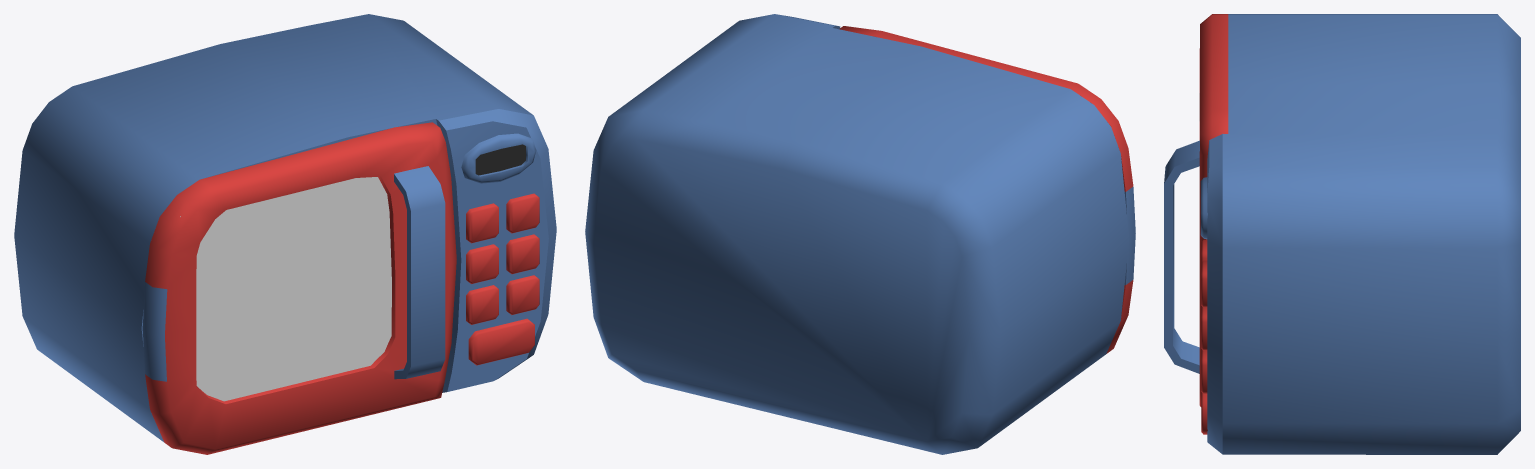
File: Microwave_01.fbx
3 views of the same model, side by side, from view 1: azimuth 30°, elevation 25°; view 2: azimuth 150°, elevation 25°; view 3: azimuth 270°, elevation 25° (orthographic). The views are drawn at different scales.
Parts seen in each view (by area): view 1: Microwave_01, Microwave_01_Door; view 2: Microwave_01, Microwave_01_Door; view 3: Microwave_01, Microwave_01_Door.
Boxes of the visible parts, left/top/right/bottom form: Microwave_01: left=14, top=14, right=556, bottom=442; Microwave_01_Door: left=142, top=122, right=456, bottom=454; Microwave_01: left=585, top=14, right=1129, bottom=454; Microwave_01_Door: left=839, top=26, right=1135, bottom=353; Microwave_01: left=1200, top=14, right=1520, bottom=454; Microwave_01_Door: left=1164, top=14, right=1228, bottom=406.
Size of the model in its own units: 0.4775 by 0.3052 by 0.3388.
